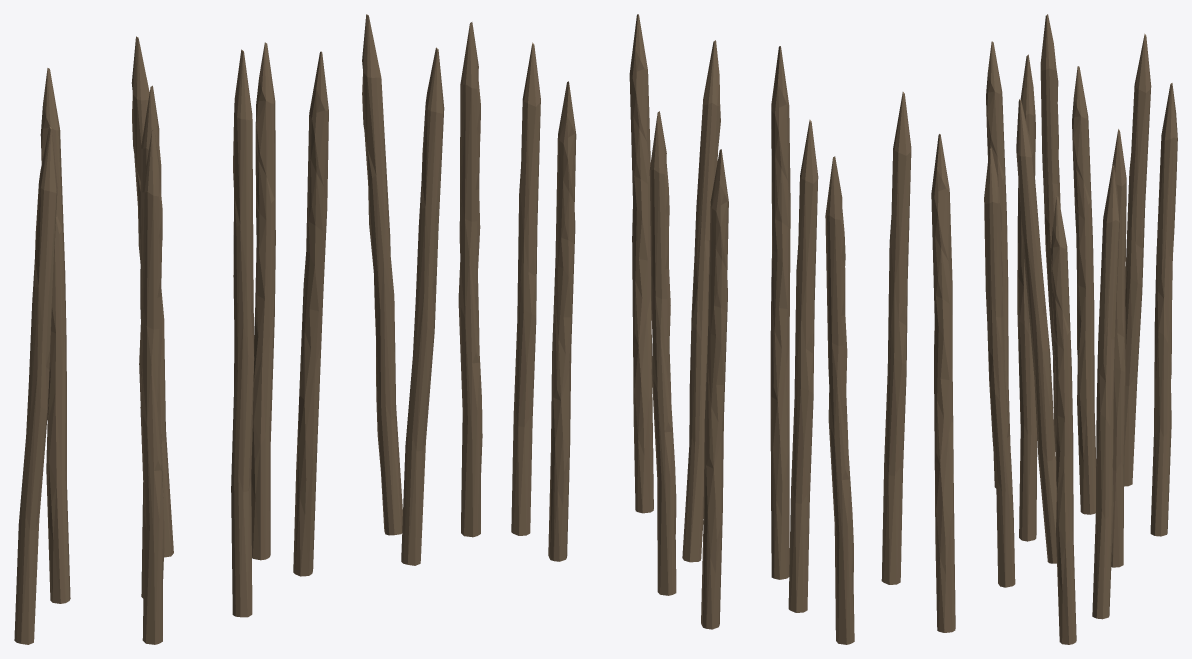
File: siege_spike_d.FBX
The picture shows the model from 3 angles, left to right: view 1: azimuth 30°, elevation 25°; view 2: azimuth 150°, elevation 25°; view 3: azimuth 270°, elevation 25°; orthographic projection. The views are drawn at different scales.
Visible parts, largest first — view 1: siege_spike_d; view 2: siege_spike_d; view 3: siege_spike_d.
Boxes of the visible parts, x1,y1,x2,y2 form: siege_spike_d: (14,14,482,644); siege_spike_d: (511,14,955,644); siege_spike_d: (984,14,1177,644).
Size of the model in its own units: 2.39 by 2.76 by 1.
